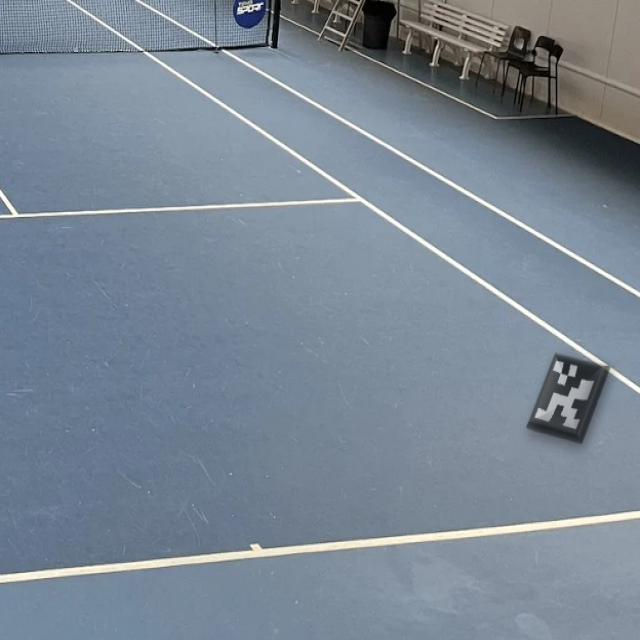marker: (523, 340, 617, 451)
